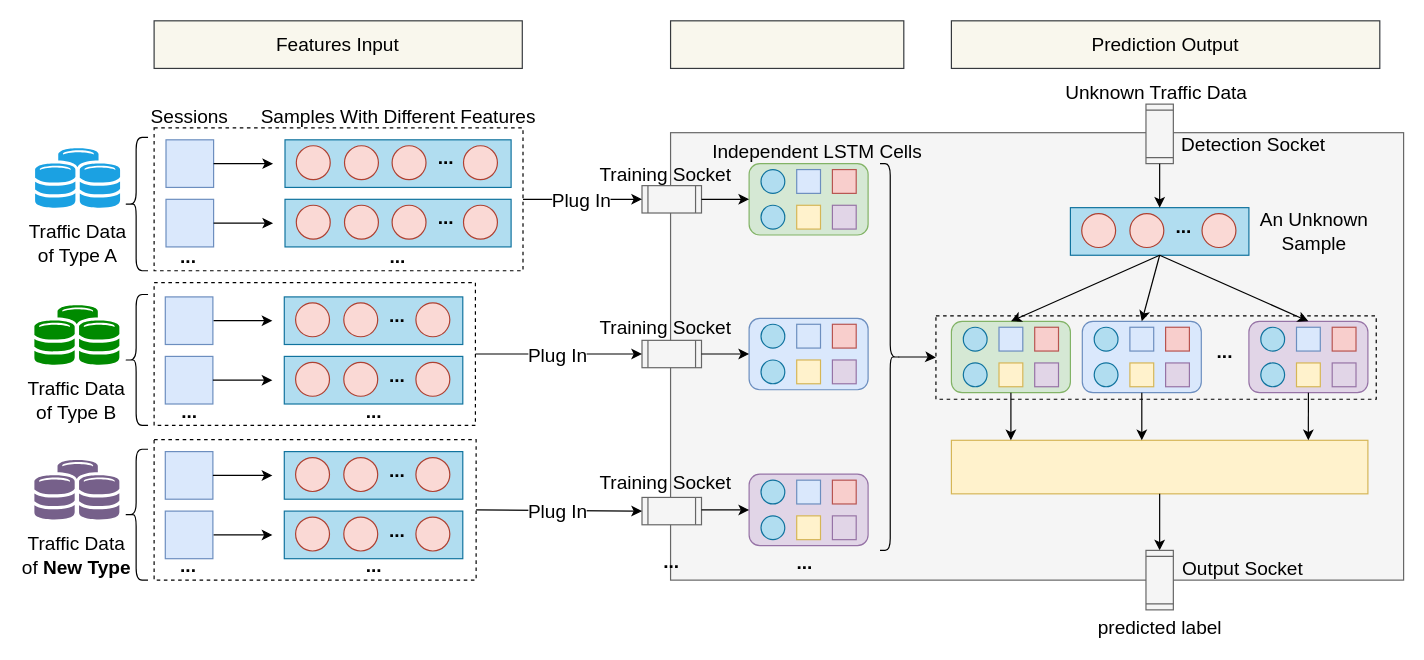
Image size: 1424x660. Some labels were removed from this diagram. Each missing label, with the centre of its shape:
"Comparator" goes at (1159,466).
"Fingerprint Learning" goes at (786,44).
